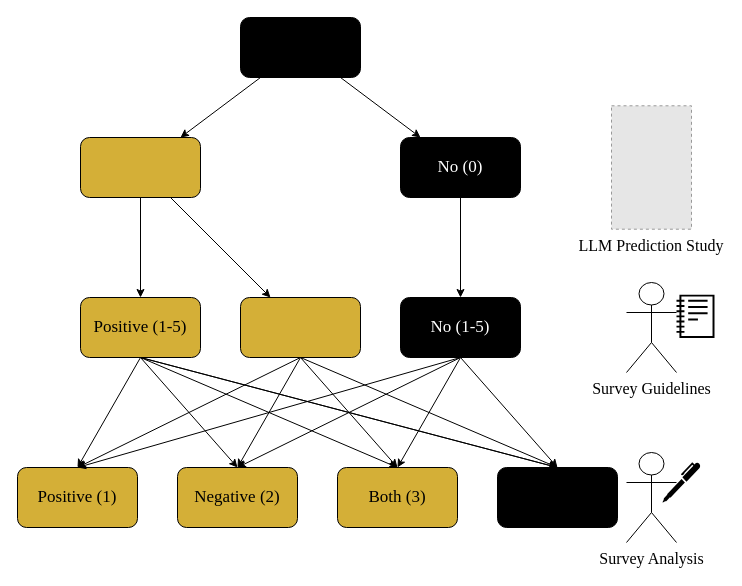
Image size: 742x586. Some labels were removed from this diagram. Grey dashed boxes stand in for pictures. Each missing label, with the centre of its shape:
"Negative (1-5)" belongs at point (300, 327).
"None (4)" belongs at point (557, 497).
"Should We Intervene?" belongs at point (300, 47).
"Yes (1)" belongs at point (140, 167).
